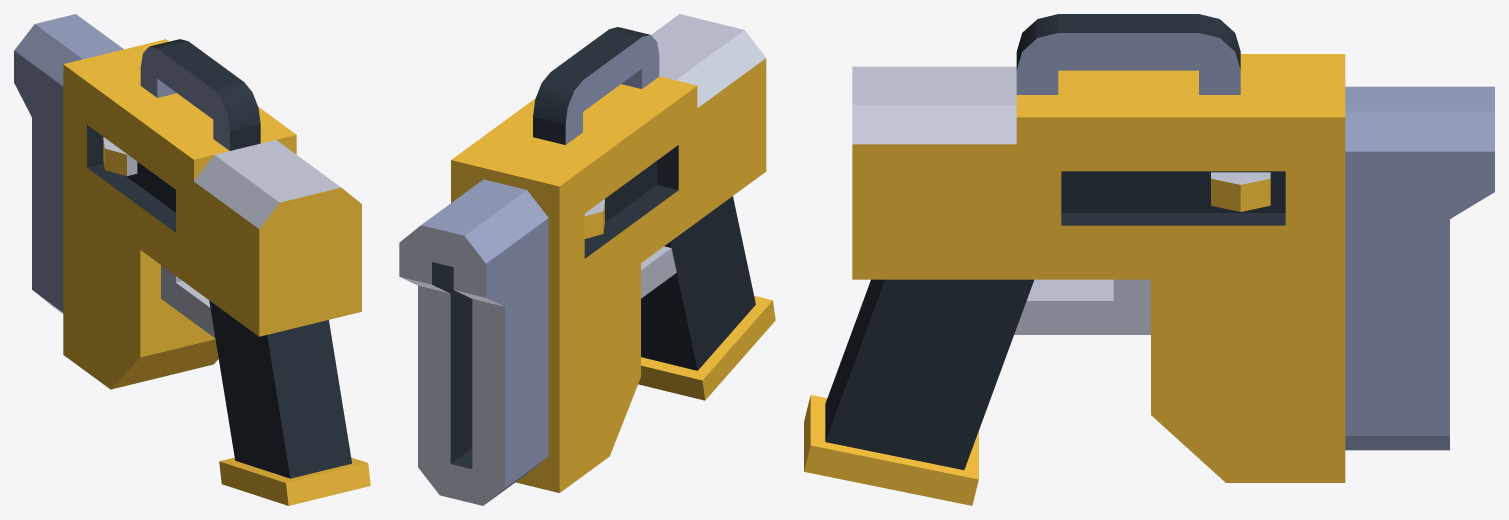
File: blasterK.obj
3 renders of one model, left to right at view 1: azimuth 30°, elevation 25°; view 2: azimuth 150°, elevation 25°; view 3: azimuth 270°, elevation 25°, orthographic. The views are drawn at different scales.
Visible parts, largest first — view 1: blasterK; view 2: blasterK; view 3: blasterK.
Boxes of the visible parts, x1=… form: blasterK: x1=14, y1=14, x2=370, y2=505; blasterK: x1=399, y1=14, x2=775, y2=505; blasterK: x1=804, y1=14, x2=1494, y2=505.
Bounding box in the file's own units: 0.1 × 0.3376 × 0.4622.
